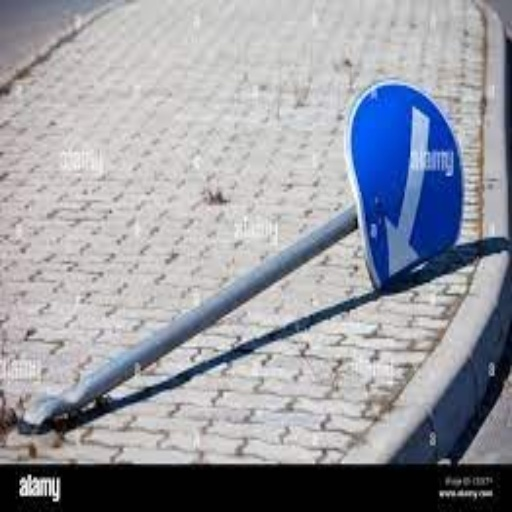Keep right: (313, 77, 474, 307)
